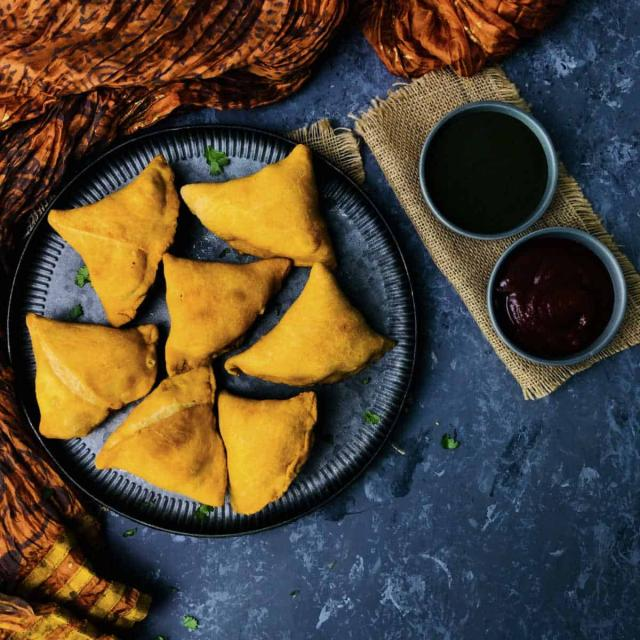SAMOSA: (52, 154, 183, 325), (92, 365, 224, 499), (236, 260, 376, 384), (31, 316, 158, 438), (185, 147, 319, 255), (166, 255, 289, 370), (225, 397, 314, 509)
